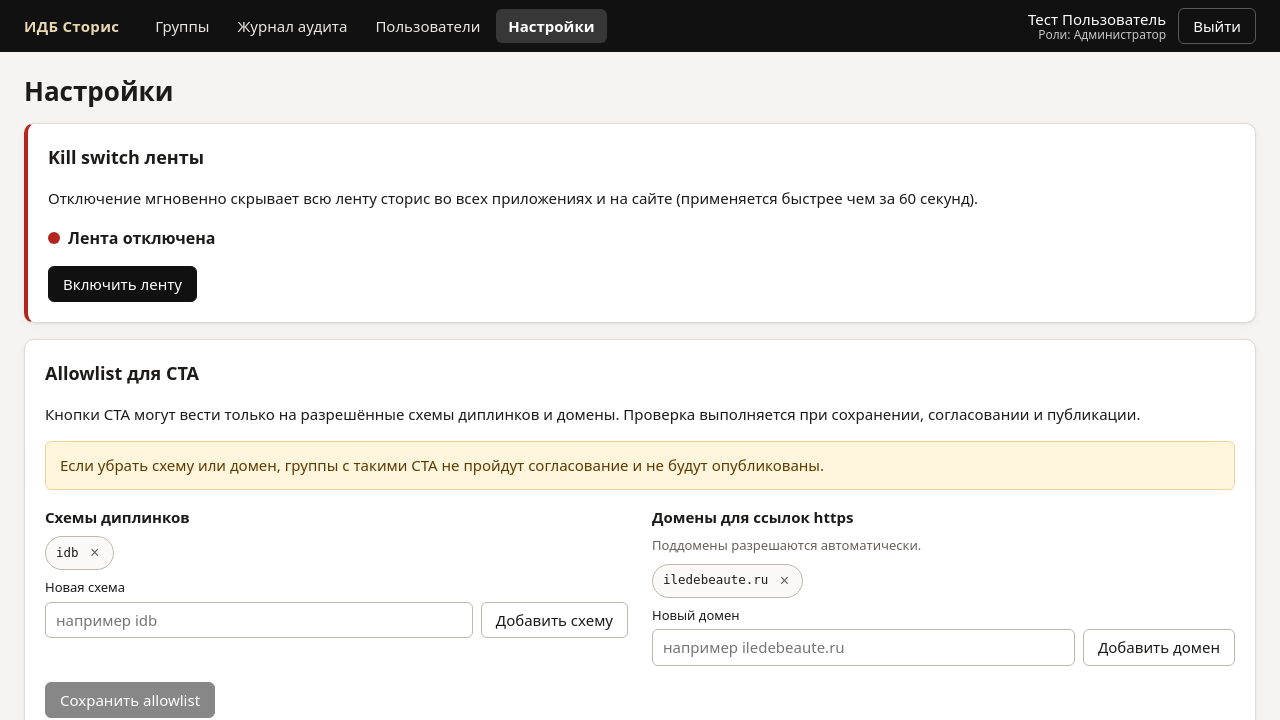
Test: Kill switch › Escape закрывает окно без запроса
Click the button "Включить ленту": [122, 284] box [48,266,197,302]
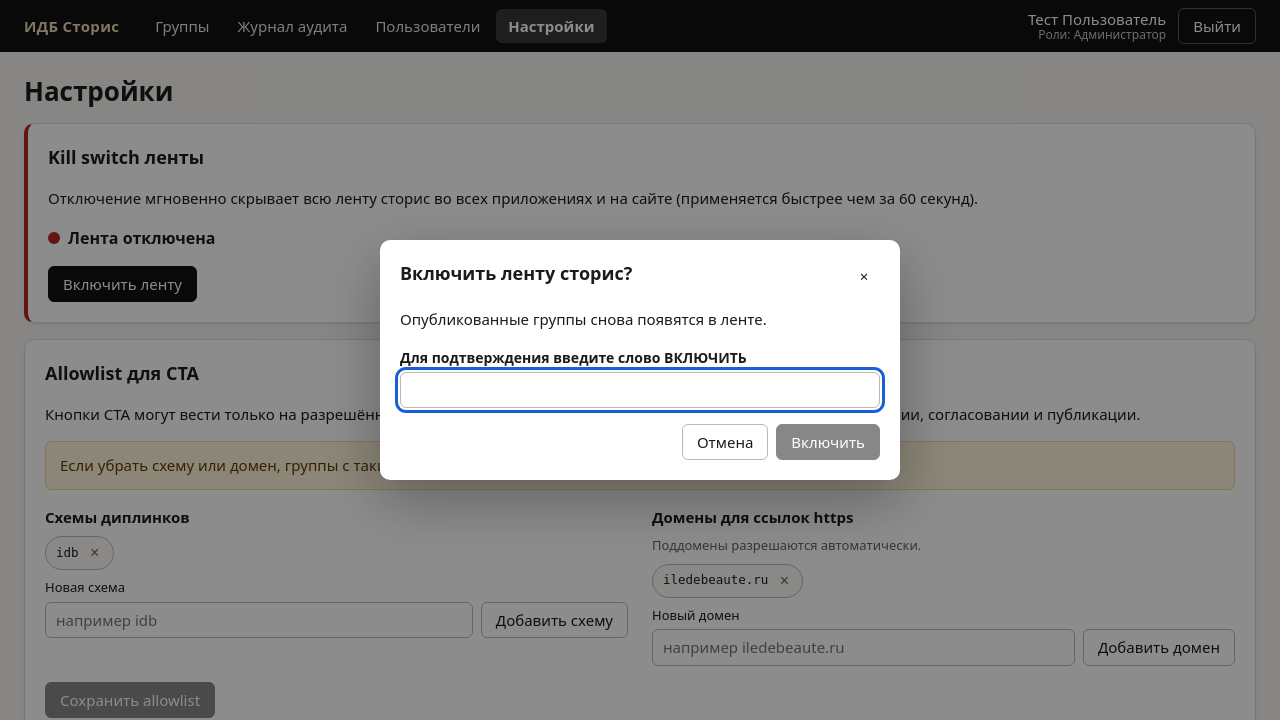
Expected: the dialog "Включить ленту сторис?" is shown, [380,240,900,480]
Press Escape
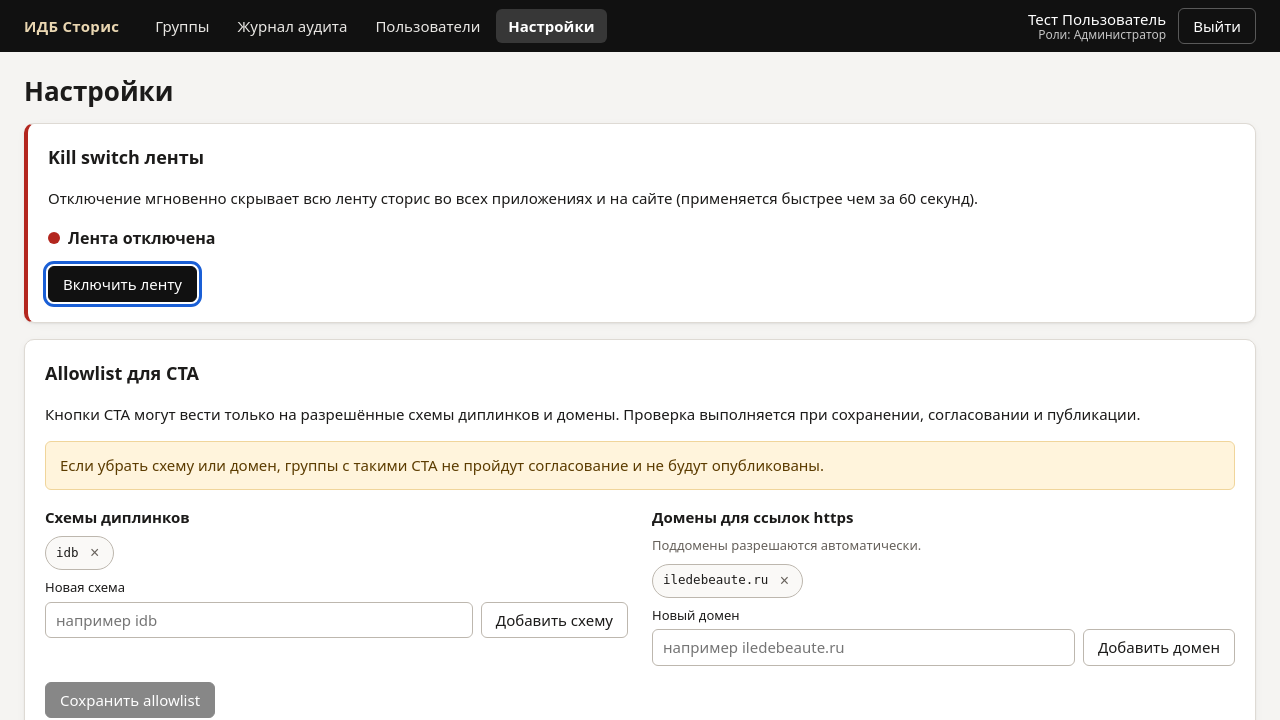
Expected: the dialog is gone
